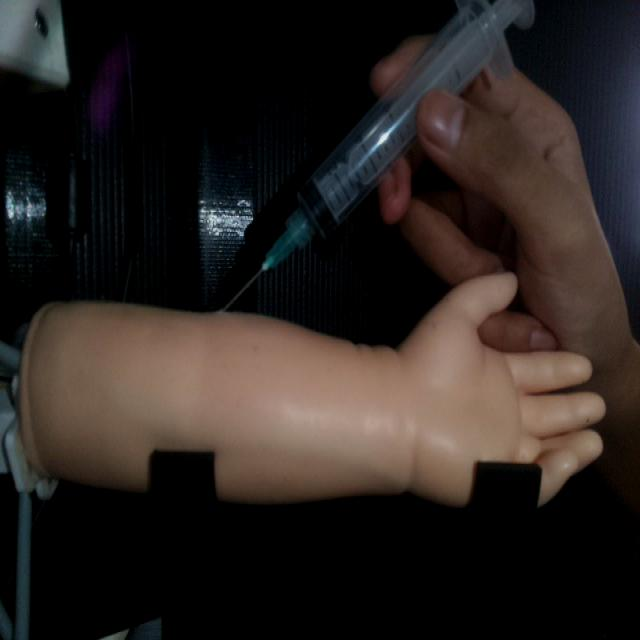Above 30 degrees: (215, 0, 538, 318)
